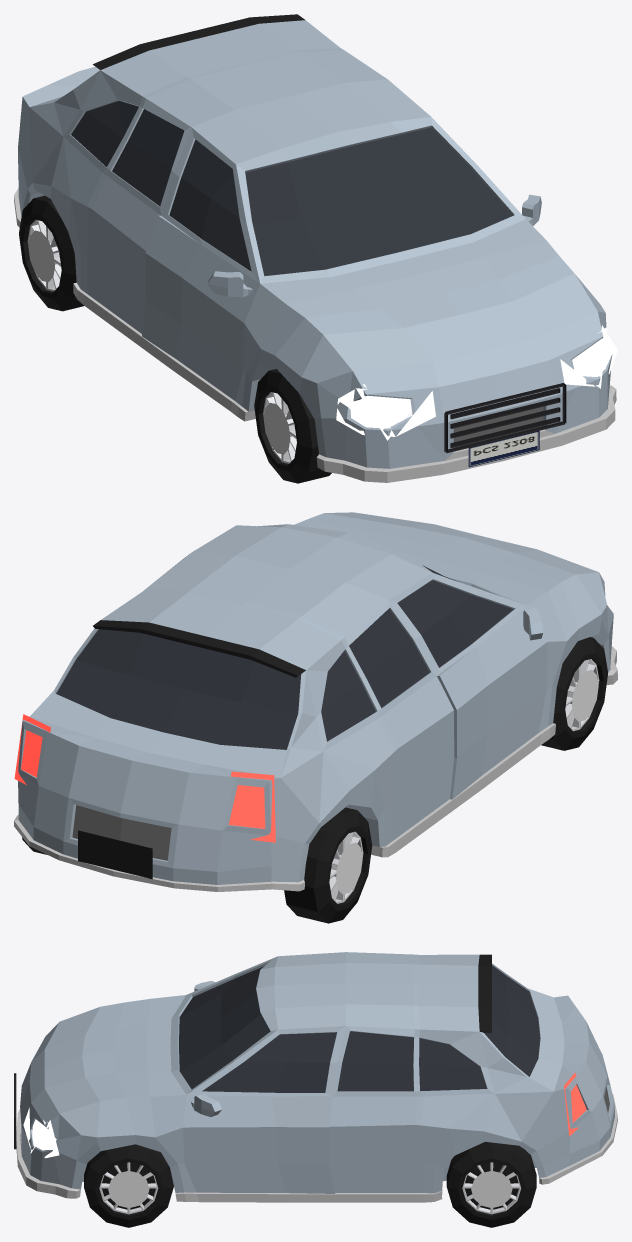
The model's file is sedan_b.glb.
3 renders of one model, top to bottom at view 1: azimuth 30°, elevation 25°; view 2: azimuth 150°, elevation 25°; view 3: azimuth 270°, elevation 25°, orthographic. The views are drawn at different scales.
Visible parts, largest first — view 1: body, hood, door_FR, door_RR, bumper_front, wheel_FR, wheel_RR, grille, headlight_R (×2), hubcap (×2), headlight_L (×2), plate; view 2: body, door_FR, door_RR, hood, bumper_rear, wheel_RR, wheel_FR, plate, hubcap (×2), taillight_R, taillight_L; view 3: body, door_FL, door_RL, hood, wheel_RL, wheel_FL, bumper_front, hubcap (×2), bumper_rear, headlight_L, taillight_L.
Boxes of the visible parts, box(x1,y1,x2,y2) form: body: box(14, 14, 615, 471); hood: box(244, 219, 605, 418); door_FR: box(140, 139, 260, 421); door_RR: box(68, 96, 193, 346); bumper_front: box(321, 354, 616, 482); wheel_FR: box(254, 369, 331, 483); wheel_RR: box(19, 195, 83, 311); grille: box(444, 383, 566, 453); headlight_R (×2): box(336, 384, 435, 440); hubcap (×2): box(28, 230, 290, 454); headlight_L (×2): box(560, 325, 617, 388); plate: box(468, 431, 539, 467); body: box(14, 524, 617, 891); door_FR: box(397, 573, 554, 811); door_RR: box(327, 600, 454, 857); hood: box(294, 512, 606, 641); bumper_rear: box(14, 786, 272, 891); wheel_RR: box(284, 807, 372, 923); wheel_FR: box(541, 637, 607, 750); plate: box(78, 830, 152, 879); hubcap (×2): box(336, 670, 598, 894); taillight_R: box(228, 771, 275, 842); taillight_L: box(14, 714, 50, 784); body: box(22, 952, 609, 1201); door_FL: box(176, 1030, 336, 1202); door_RL: box(328, 1026, 485, 1202); hood: box(29, 995, 186, 1137); wheel_RL: box(446, 1141, 536, 1227); wheel_FL: box(84, 1144, 173, 1227); bumper_front: box(16, 1082, 76, 1198); hubcap (×2): box(108, 1170, 512, 1207); bumper_rear: box(569, 1064, 617, 1171); headlight_L: box(23, 1107, 59, 1158); taillight_L: box(564, 1072, 586, 1136).
Bounding box in the file's own units: 1.98 × 1.38 × 4.01.
13 materials, 1 textured.
